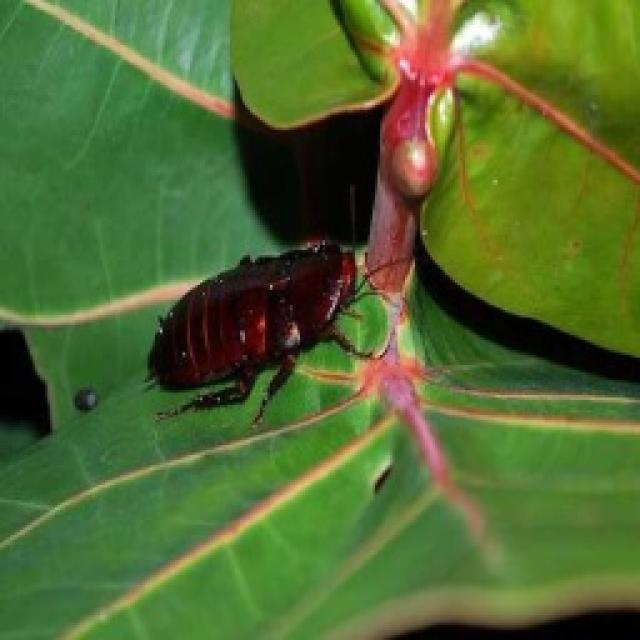cockroach: (140, 233, 386, 431)
